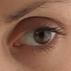eye: (35, 30, 51, 44)
